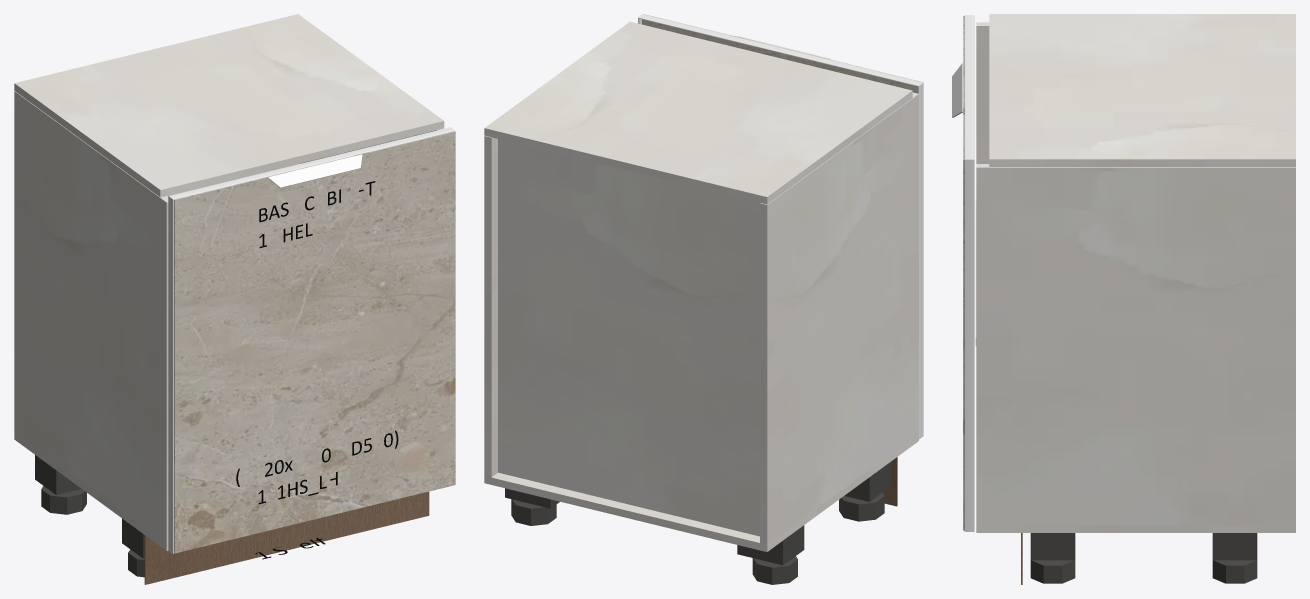
3 views of the same model, side by side, from view 1: azimuth 30°, elevation 25°; view 2: azimuth 150°, elevation 25°; view 3: azimuth 270°, elevation 25° (orthographic). The views are drawn at different scales.
Size of what is drawn, in the model's own units: 0.6 by 0.82 by 0.6.
6 materials, 3 textured.
